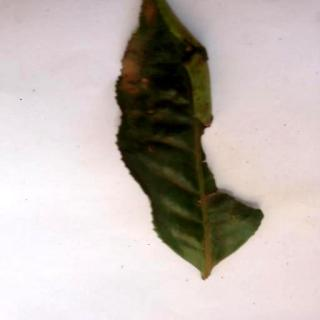Algal Leaf: (116, 1, 266, 280)
